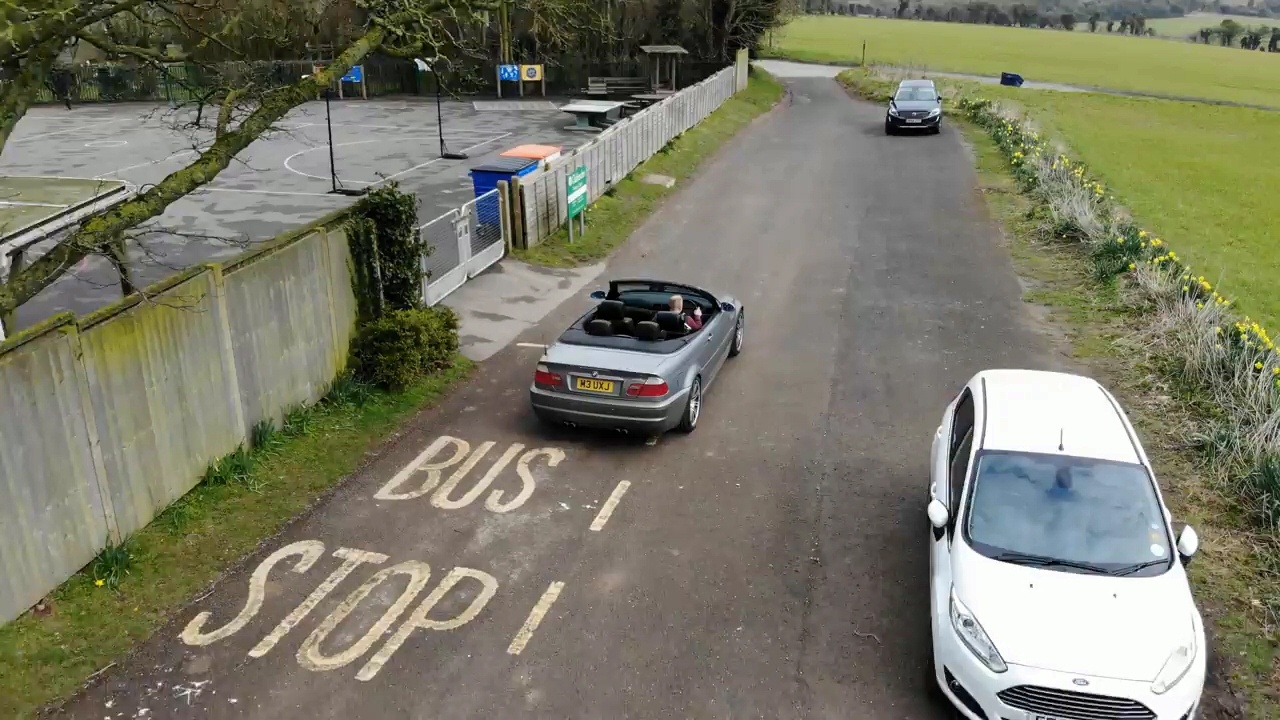araba: (925, 374, 1203, 720), (530, 273, 748, 432), (885, 76, 945, 140)
